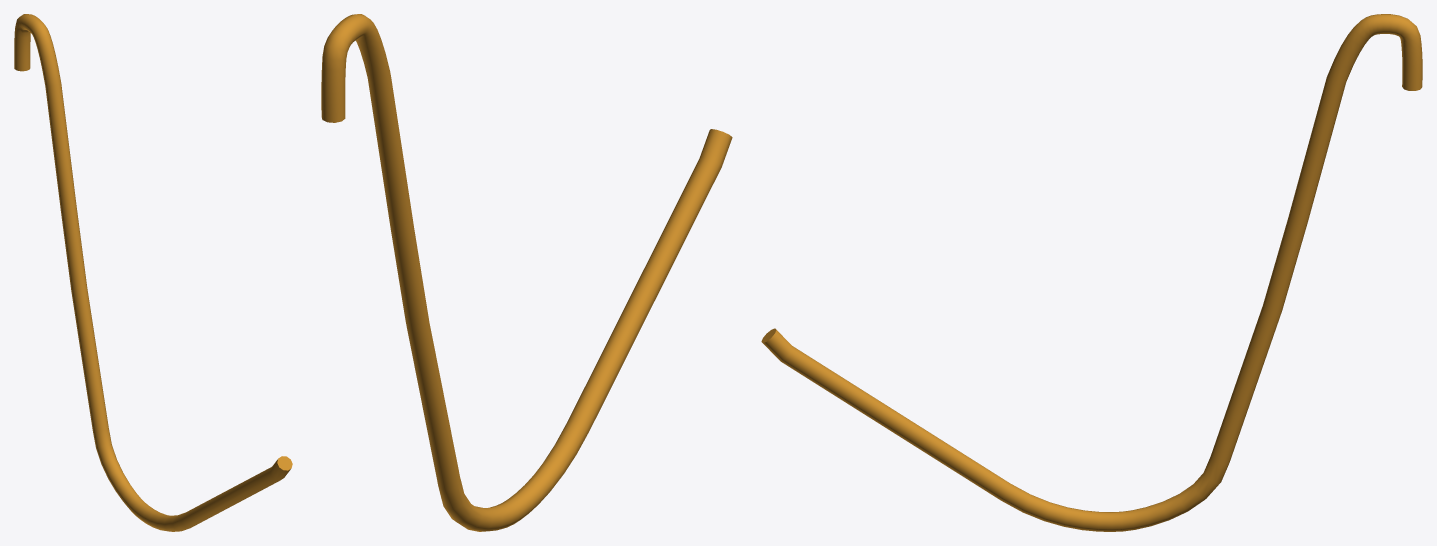
File: SM_橡皮管_004.fbx
3 views of the same model, side by side, from view 1: azimuth 30°, elevation 25°; view 2: azimuth 150°, elevation 25°; view 3: azimuth 270°, elevation 25° (orthographic). The views are drawn at different scales.
Visible parts, largest first — view 1: SM_橡皮管_004; view 2: SM_橡皮管_004; view 3: SM_橡皮管_004.
Part boxes in pixels (<box>): SM_橡皮管_004: <box>14,14,292,531</box>; SM_橡皮管_004: <box>321,14,732,531</box>; SM_橡皮管_004: <box>761,14,1422,531</box>.
Size of the model in its own units: 0.0114 by 0.338 by 0.3922.
